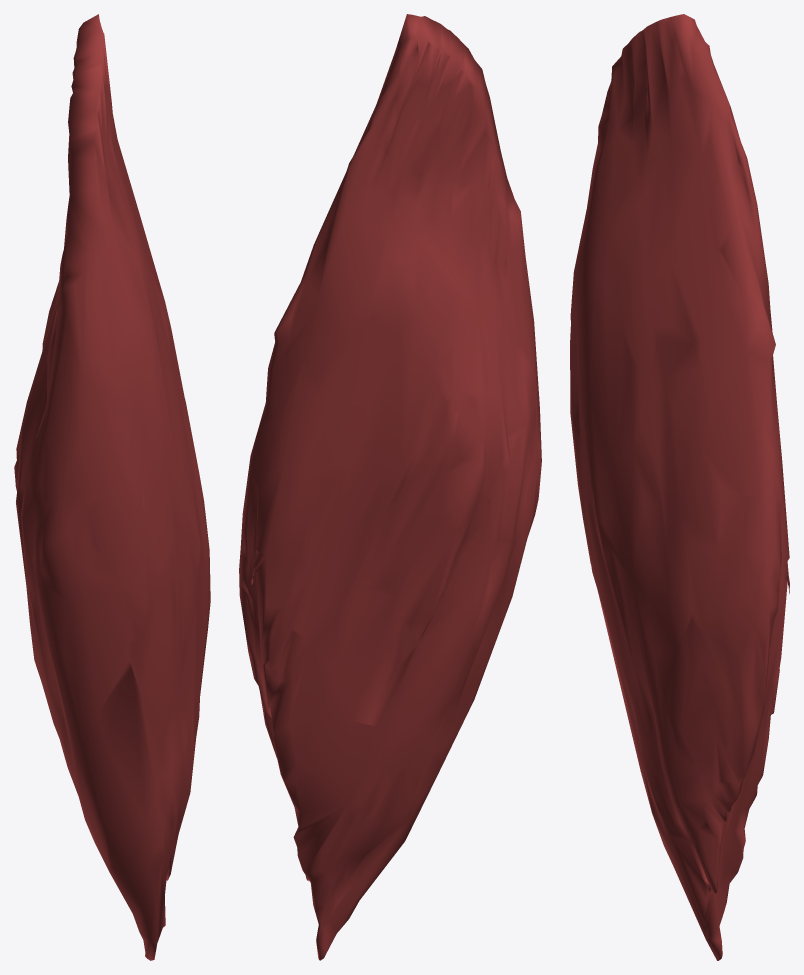
The model's file is tensor-fasciae-latae-l.glb.
The picture shows the model from 3 angles, left to right: view 1: azimuth 30°, elevation 25°; view 2: azimuth 150°, elevation 25°; view 3: azimuth 270°, elevation 25°; orthographic projection. The views are drawn at different scales.
Parts seen in each view (by area): view 1: Tensor fasciae latae.l; view 2: Tensor fasciae latae.l; view 3: Tensor fasciae latae.l.
Boxes of the visible parts, x1,y1,x2,y2 form: Tensor fasciae latae.l: (14,14,210,960); Tensor fasciae latae.l: (239,14,541,960); Tensor fasciae latae.l: (570,14,789,960).
Bounding box in the file's own units: 0.0391 × 0.1615 × 0.0352.
